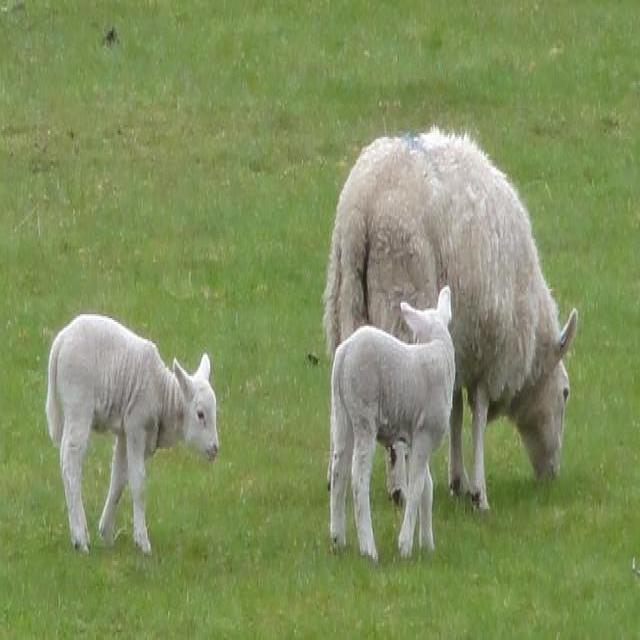Sheep: (327, 129, 577, 515), (42, 307, 226, 559), (329, 285, 455, 569)
